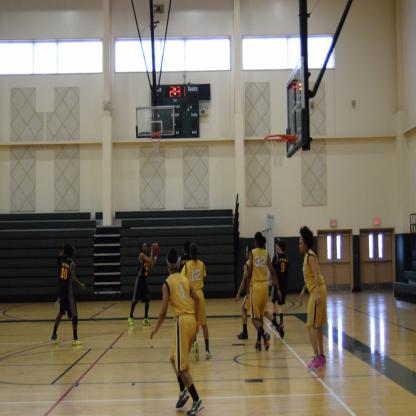Ball: (150, 243, 159, 256)
